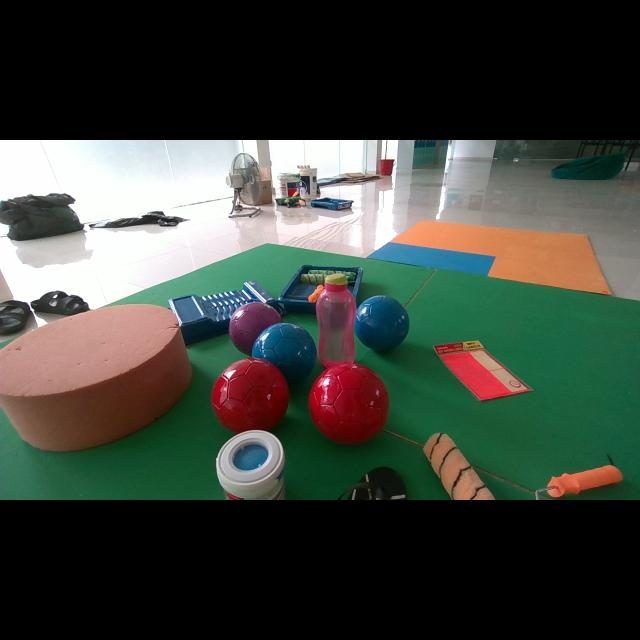B: (251, 322, 318, 384), (355, 295, 410, 351)
P: (229, 302, 282, 355)
R: (309, 362, 389, 444), (211, 358, 289, 434)
